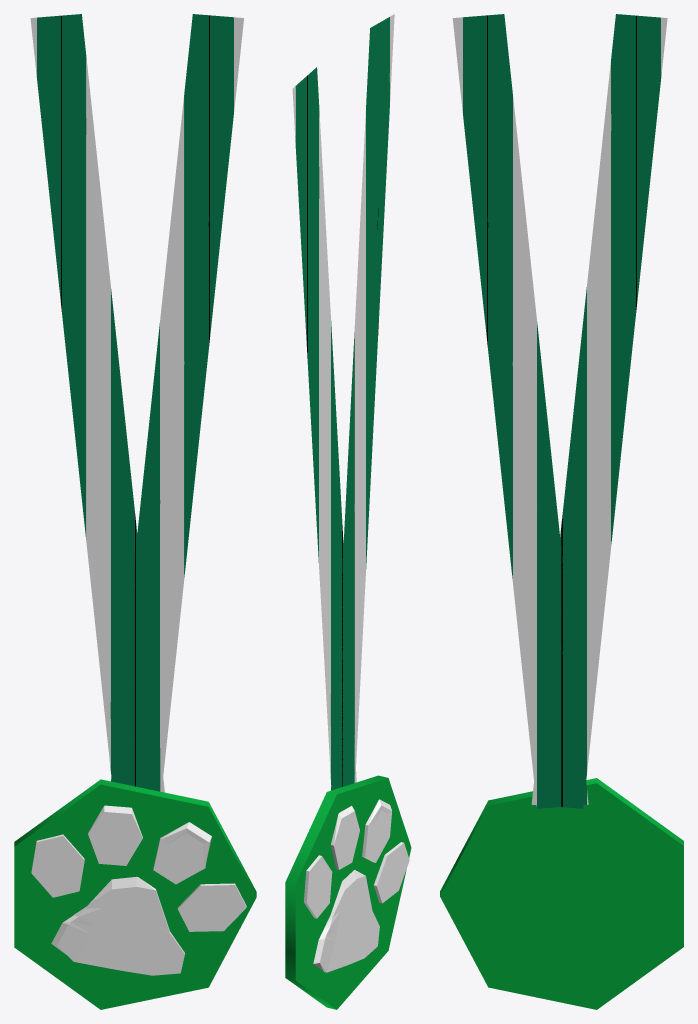
File: medalSmallgreen.FBX
3 views of the same model, side by side, from view 1: azimuth 90°, elevation 25°; view 2: azimuth 150°, elevation 25°; view 3: azimuth 270°, elevation 25° (orthographic). The views are drawn at different scales.
Parts seen in each view (by area): view 1: Box238; view 2: Box238; view 3: Box238.
Boxes of the visible parts, box(x1,y1,x2,y2) form: Box238: box(14, 14, 256, 1009); Box238: box(285, 14, 411, 1009); Box238: box(440, 14, 683, 1009).
Size of the model in its own units: 0.3769 by 23.51 by 5.22.
